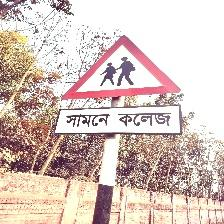College-in-front: (52, 32, 195, 152)
